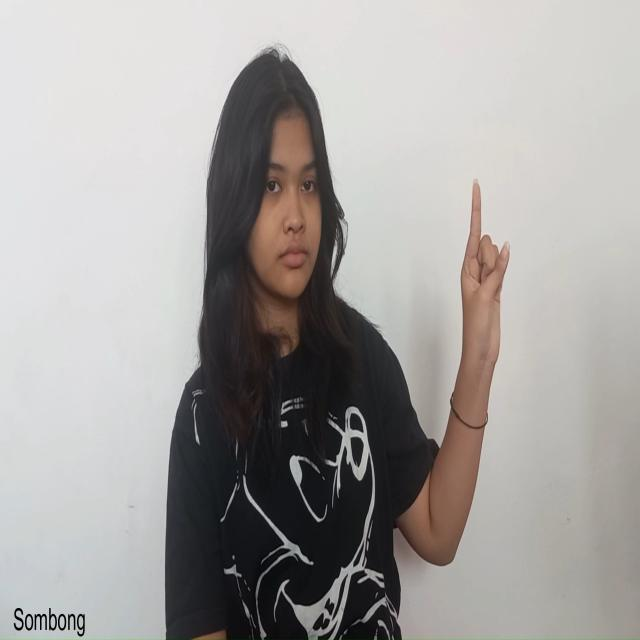Sombong -BISINDO-: (458, 175, 512, 386)
